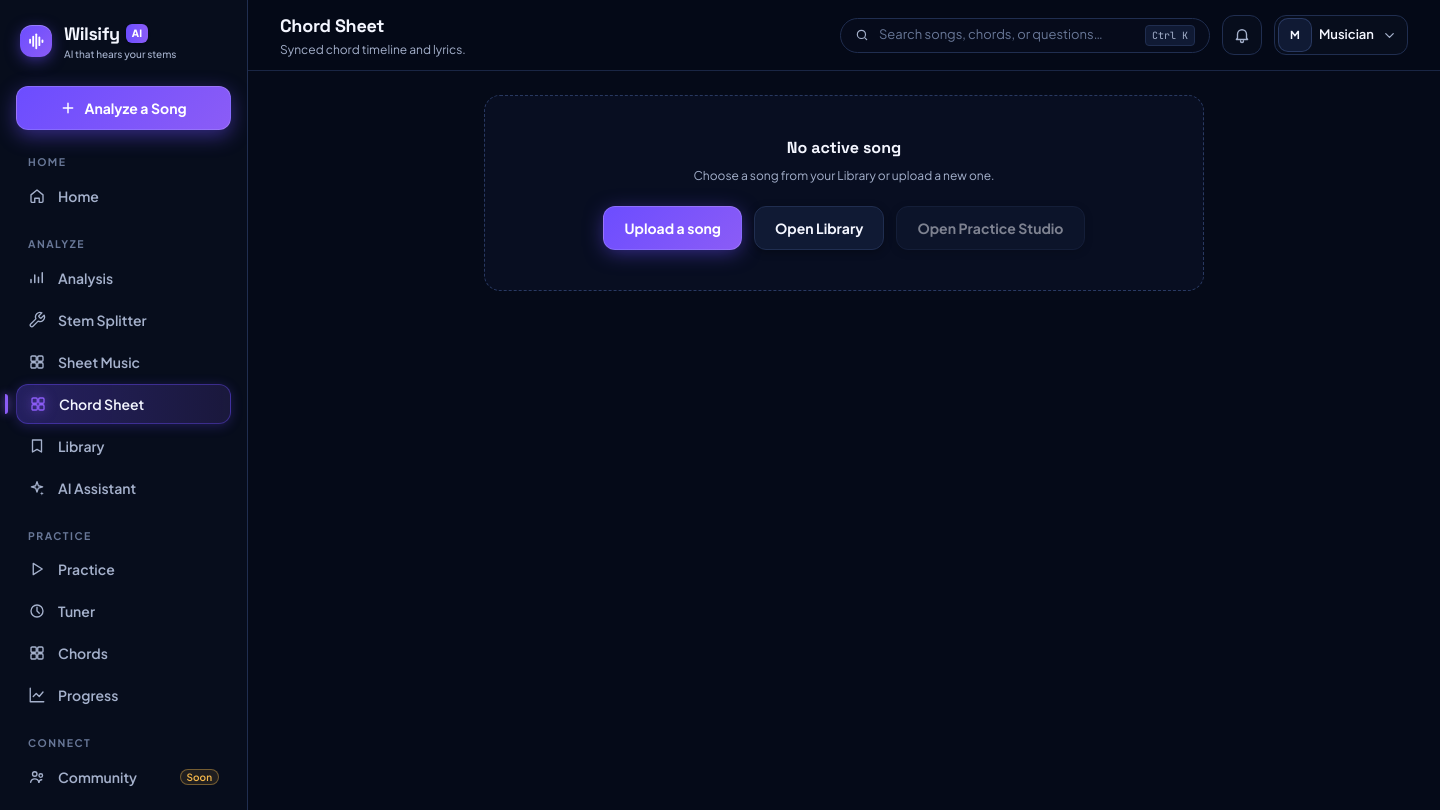
Test: Empty states and next-step CTAs › /song/current with nothing analysed shows the 'No active song' state and its Library CTA works
The image size is (1440, 810).
Expected: the element that starts with "No active song" is shown, 484,95 -> 1204,290
Expected: the text "No active song" is shown, 787,136 -> 901,160
Click the link "Open Library" at (819, 228), box 754,206 -> 884,250
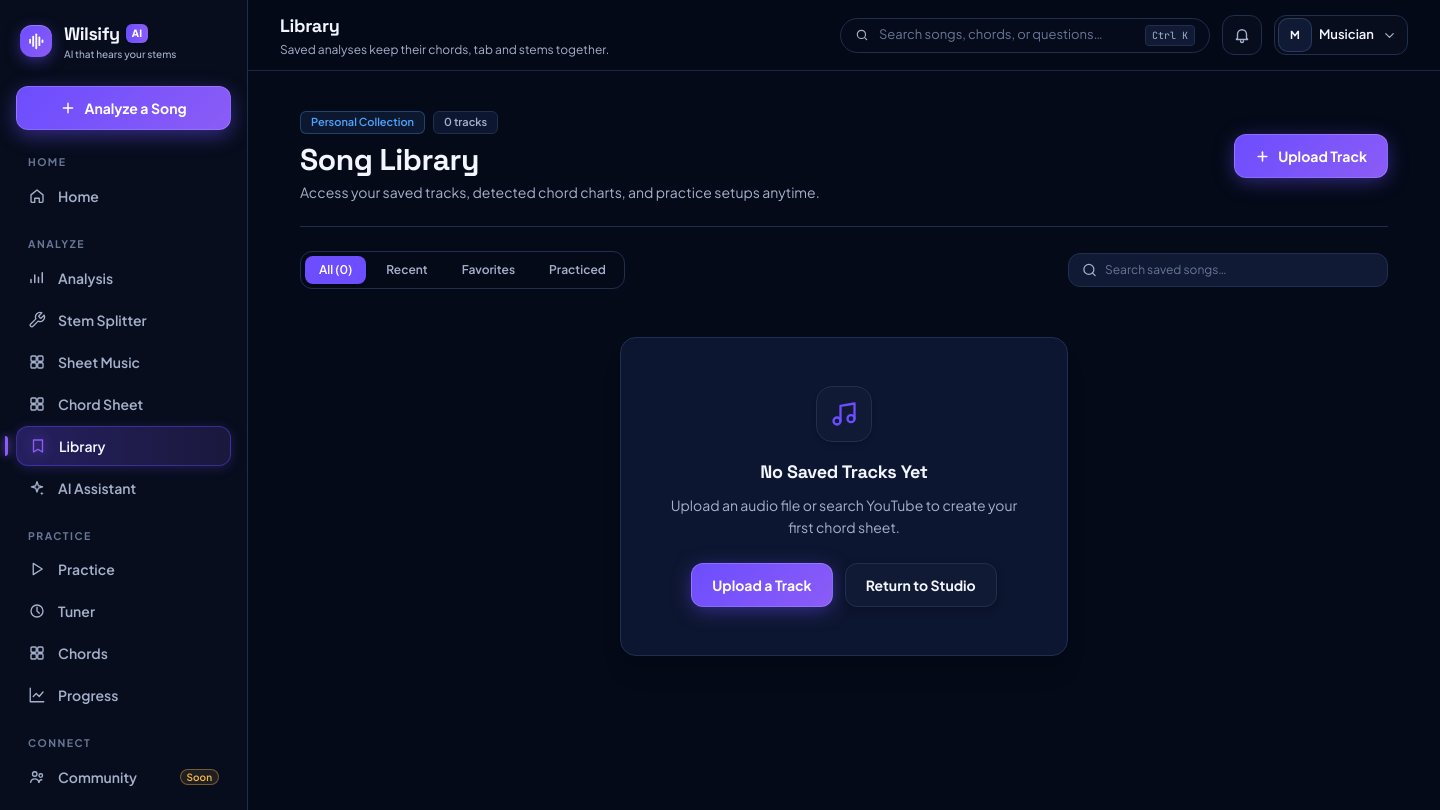
Expected: the heading "Song Library" is shown, 300,140 -> 479,178
